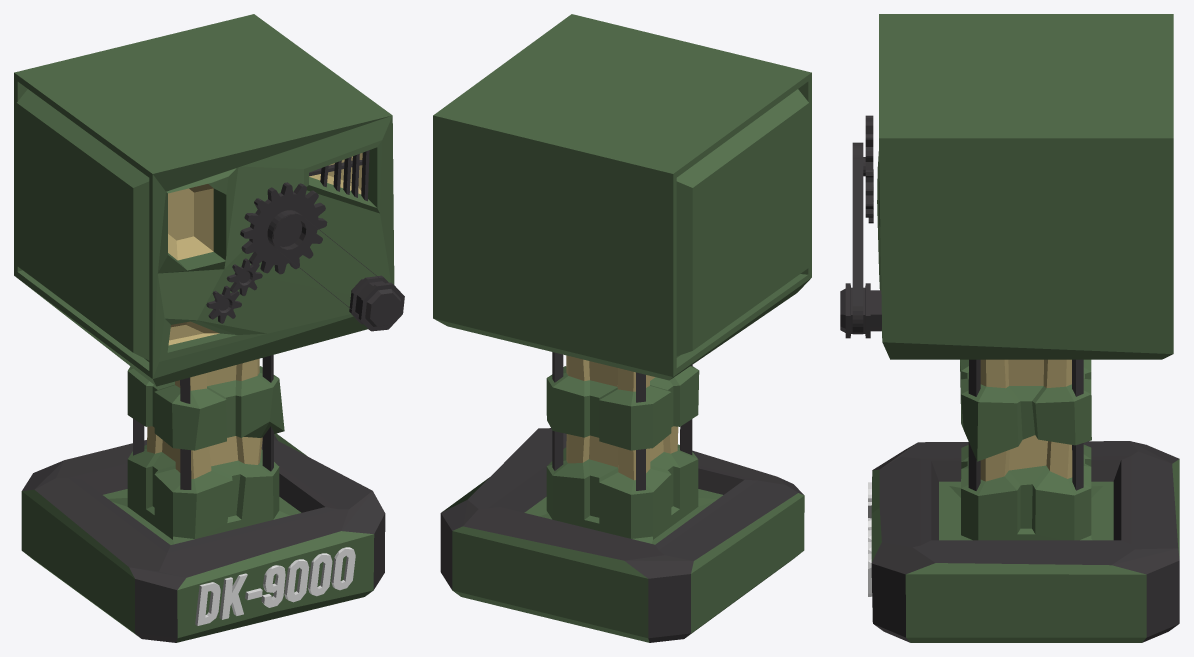
The model's file is Crusher1.fbx.
3 renders of one model, left to right at view 1: azimuth 30°, elevation 25°; view 2: azimuth 150°, elevation 25°; view 3: azimuth 270°, elevation 25°, orthographic. The views are drawn at different scales.
Visible parts, largest first — view 1: Top, Bottom, Gear1, Wheel, Gear3, Gear2; view 2: Top, Bottom; view 3: Top, Bottom, Wheel, Gear1.
Part boxes in pixels (x1=…): Top: x1=14, y1=14, x2=394, y2=386; Bottom: x1=21, y1=355, x2=385, y2=642; Gear1: x1=240, y1=182, x2=327, y2=274; Wheel: x1=349, y1=275, x2=404, y2=331; Gear3: x1=206, y1=285, x2=241, y2=323; Gear2: x1=226, y1=258, x2=262, y2=295; Top: x1=433, y1=14, x2=811, y2=380; Bottom: x1=440, y1=352, x2=804, y2=642; Top: x1=852, y1=14, x2=1173, y2=359; Bottom: x1=868, y1=359, x2=1179, y2=642; Wheel: x1=840, y1=283, x2=881, y2=338; Gear1: x1=853, y1=115, x2=873, y2=217.
Bounding box in the file's own units: 87.4 × 156 × 94.79.
